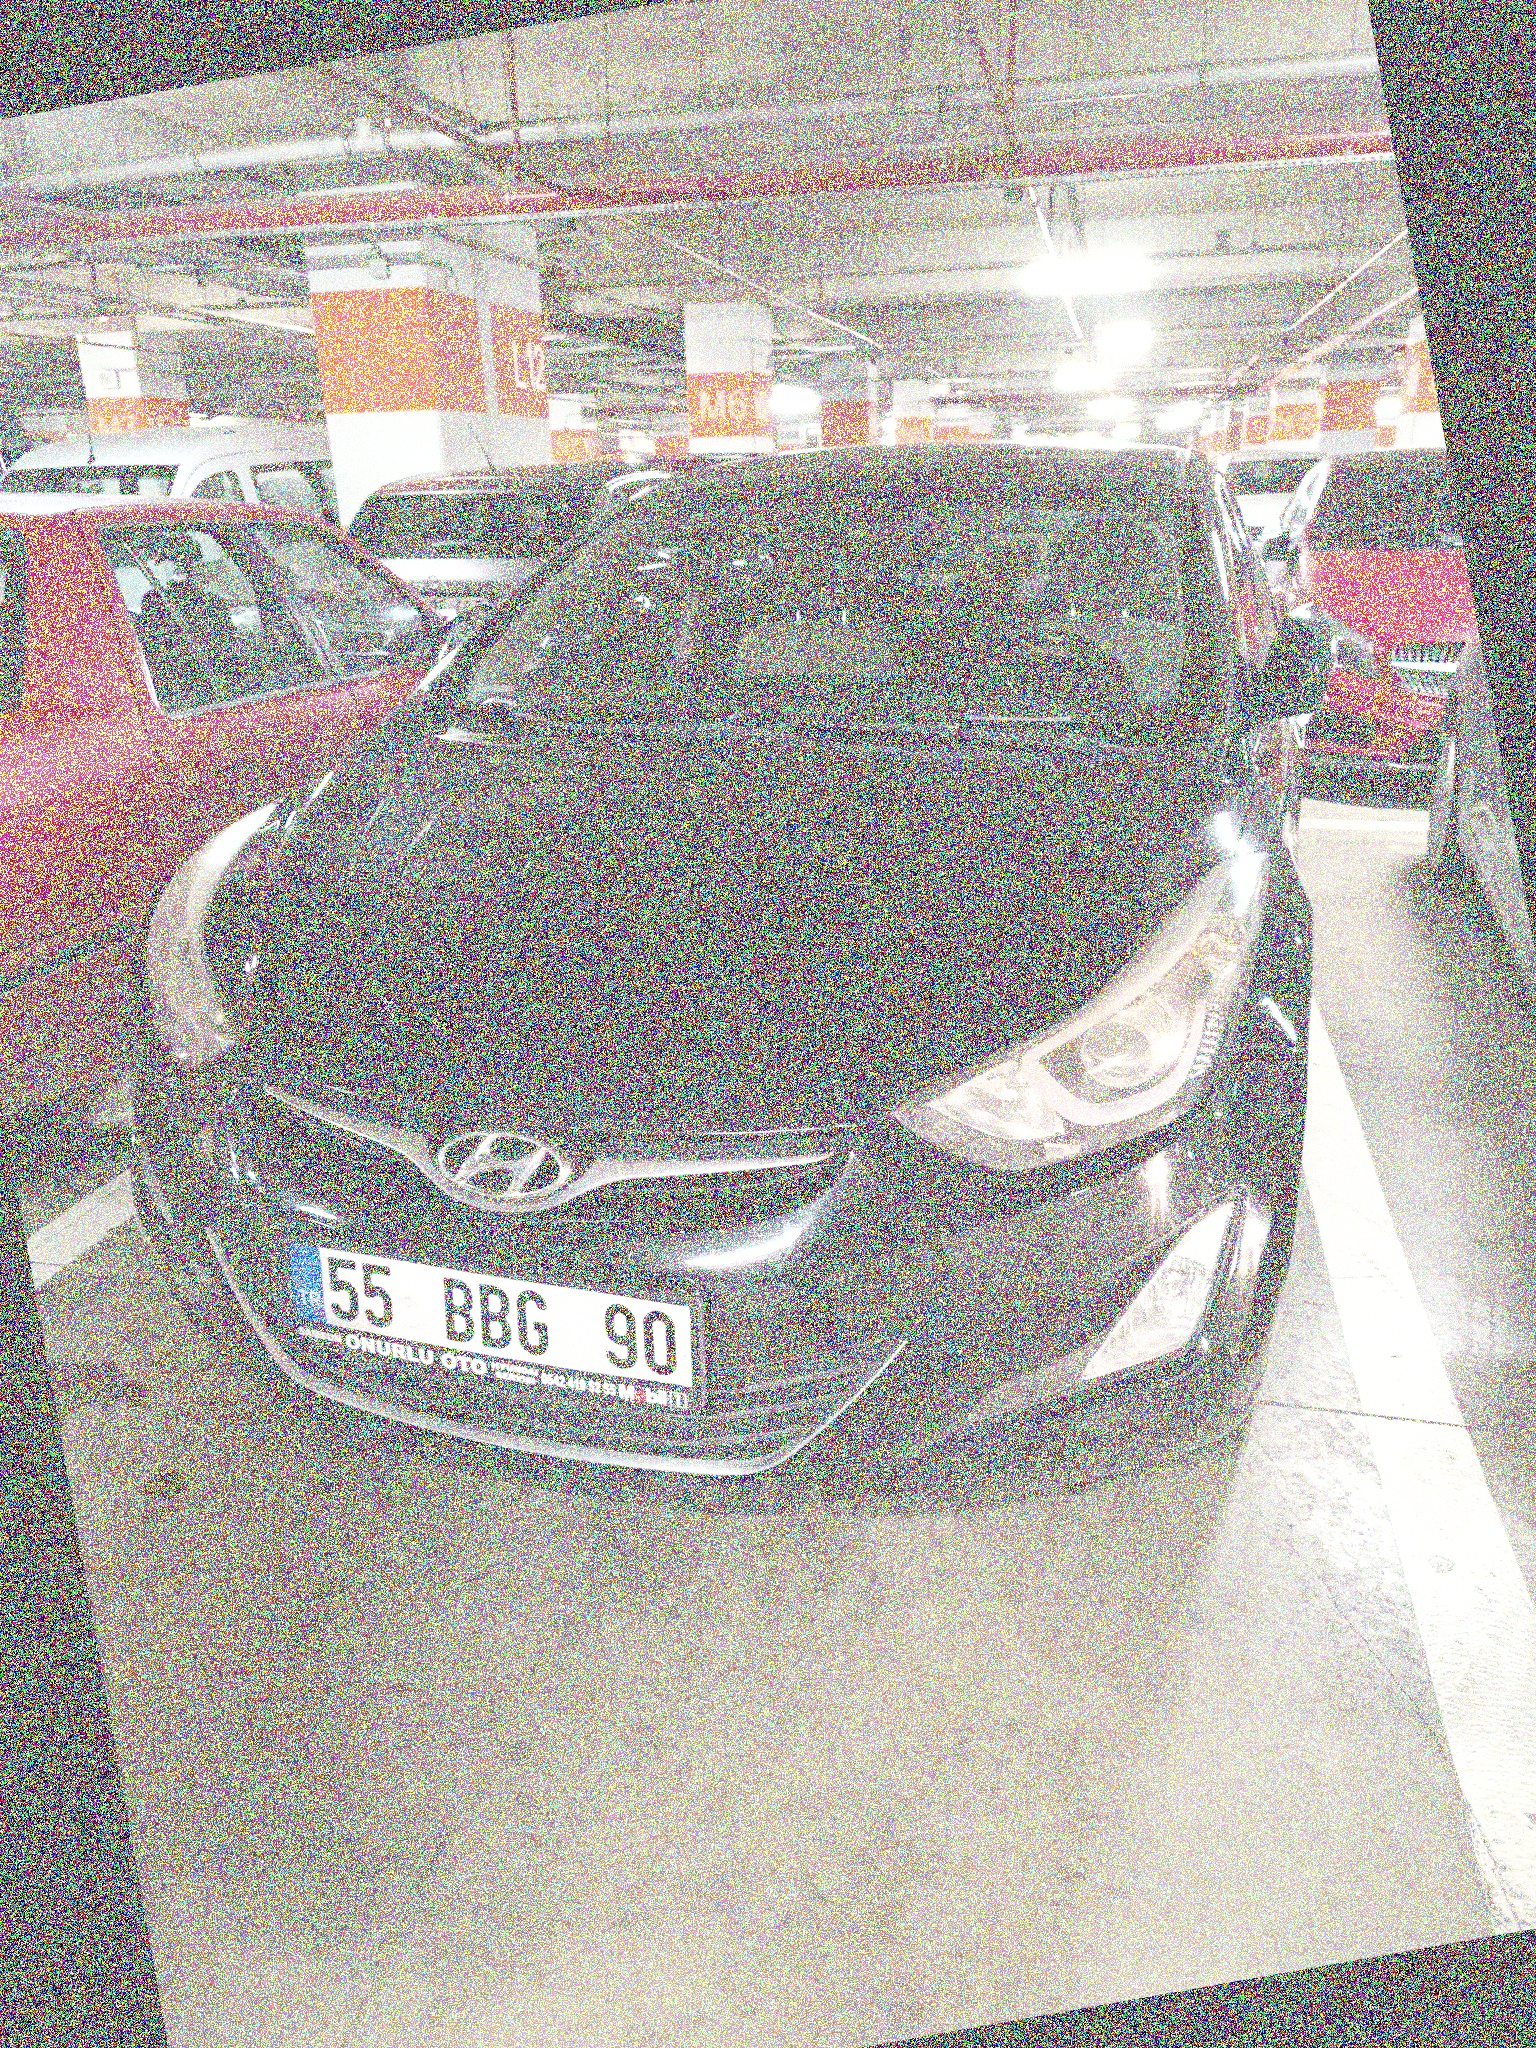plaka: (310, 1227, 696, 1395)
